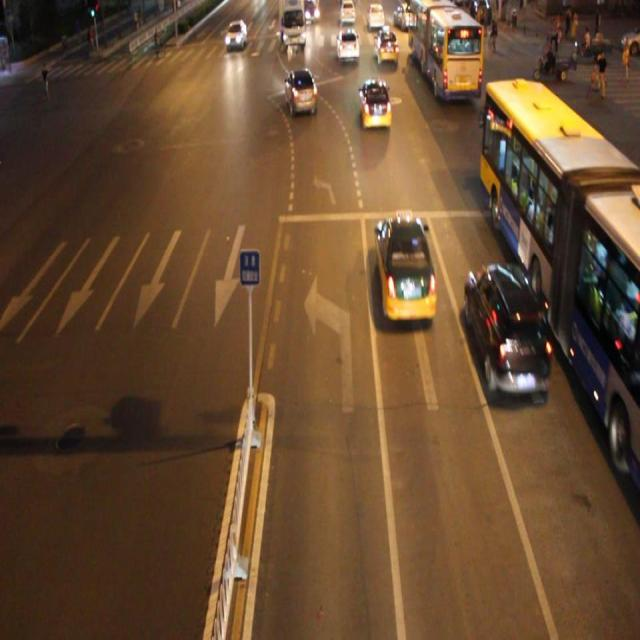car: (464, 263, 551, 396), (374, 212, 435, 319), (358, 78, 391, 132), (284, 69, 317, 114)
van: (480, 77, 640, 487), (411, 1, 480, 94)
